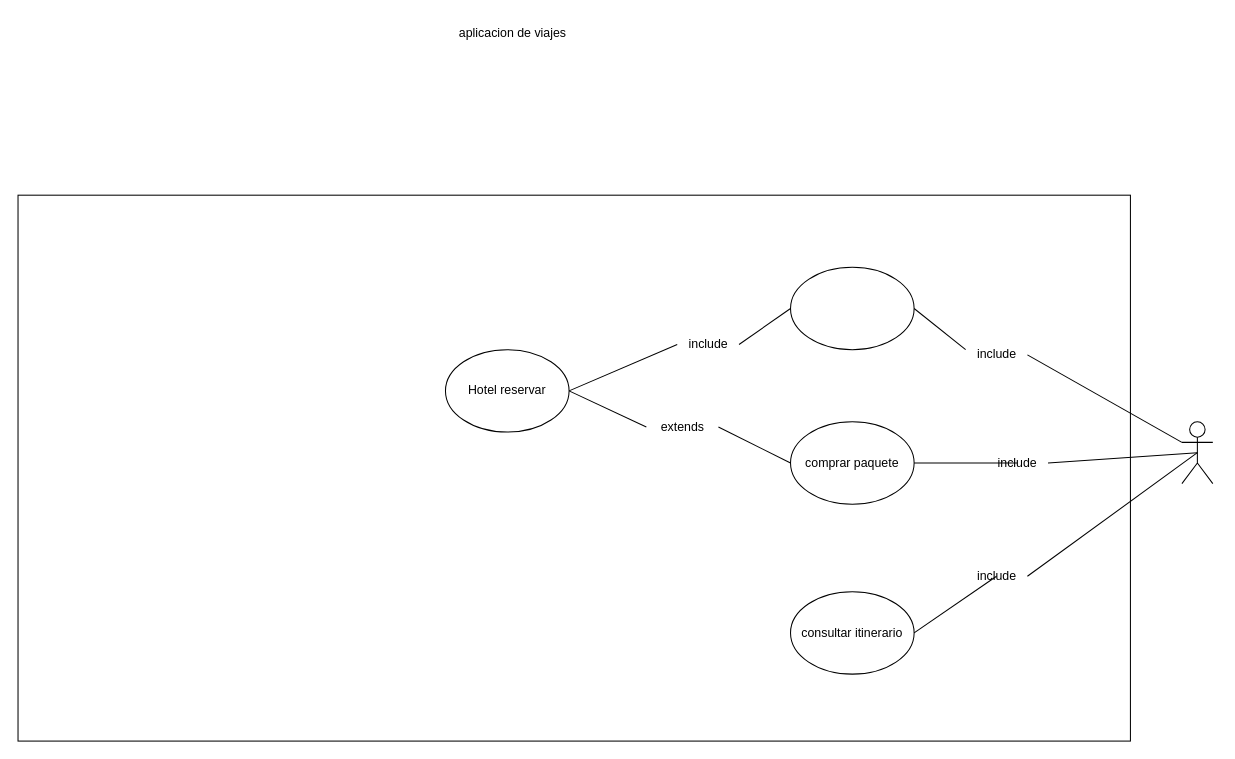
Image size: 1235x759. Some labels were removed from this diagram. Each missing label, with the centre of its shape:
buscar vuelos: the point at 851,308
usuario: the point at 1197,452
